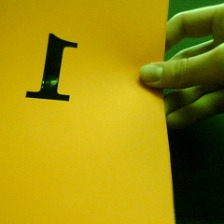orange1: (23, 31, 82, 106)
